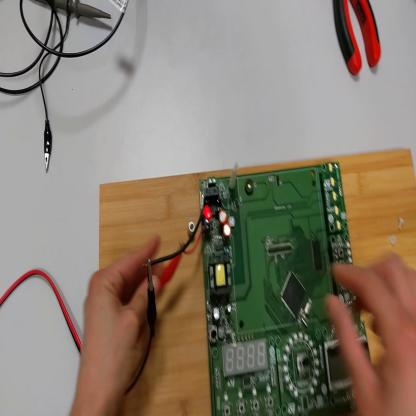hand: (76, 235, 165, 404), (327, 250, 416, 416)
low voltage board: (149, 161, 372, 416)
oscilloscope probe tip: (38, 1, 113, 22)
pliers: (332, 1, 383, 76)
working area: (101, 148, 416, 416)
